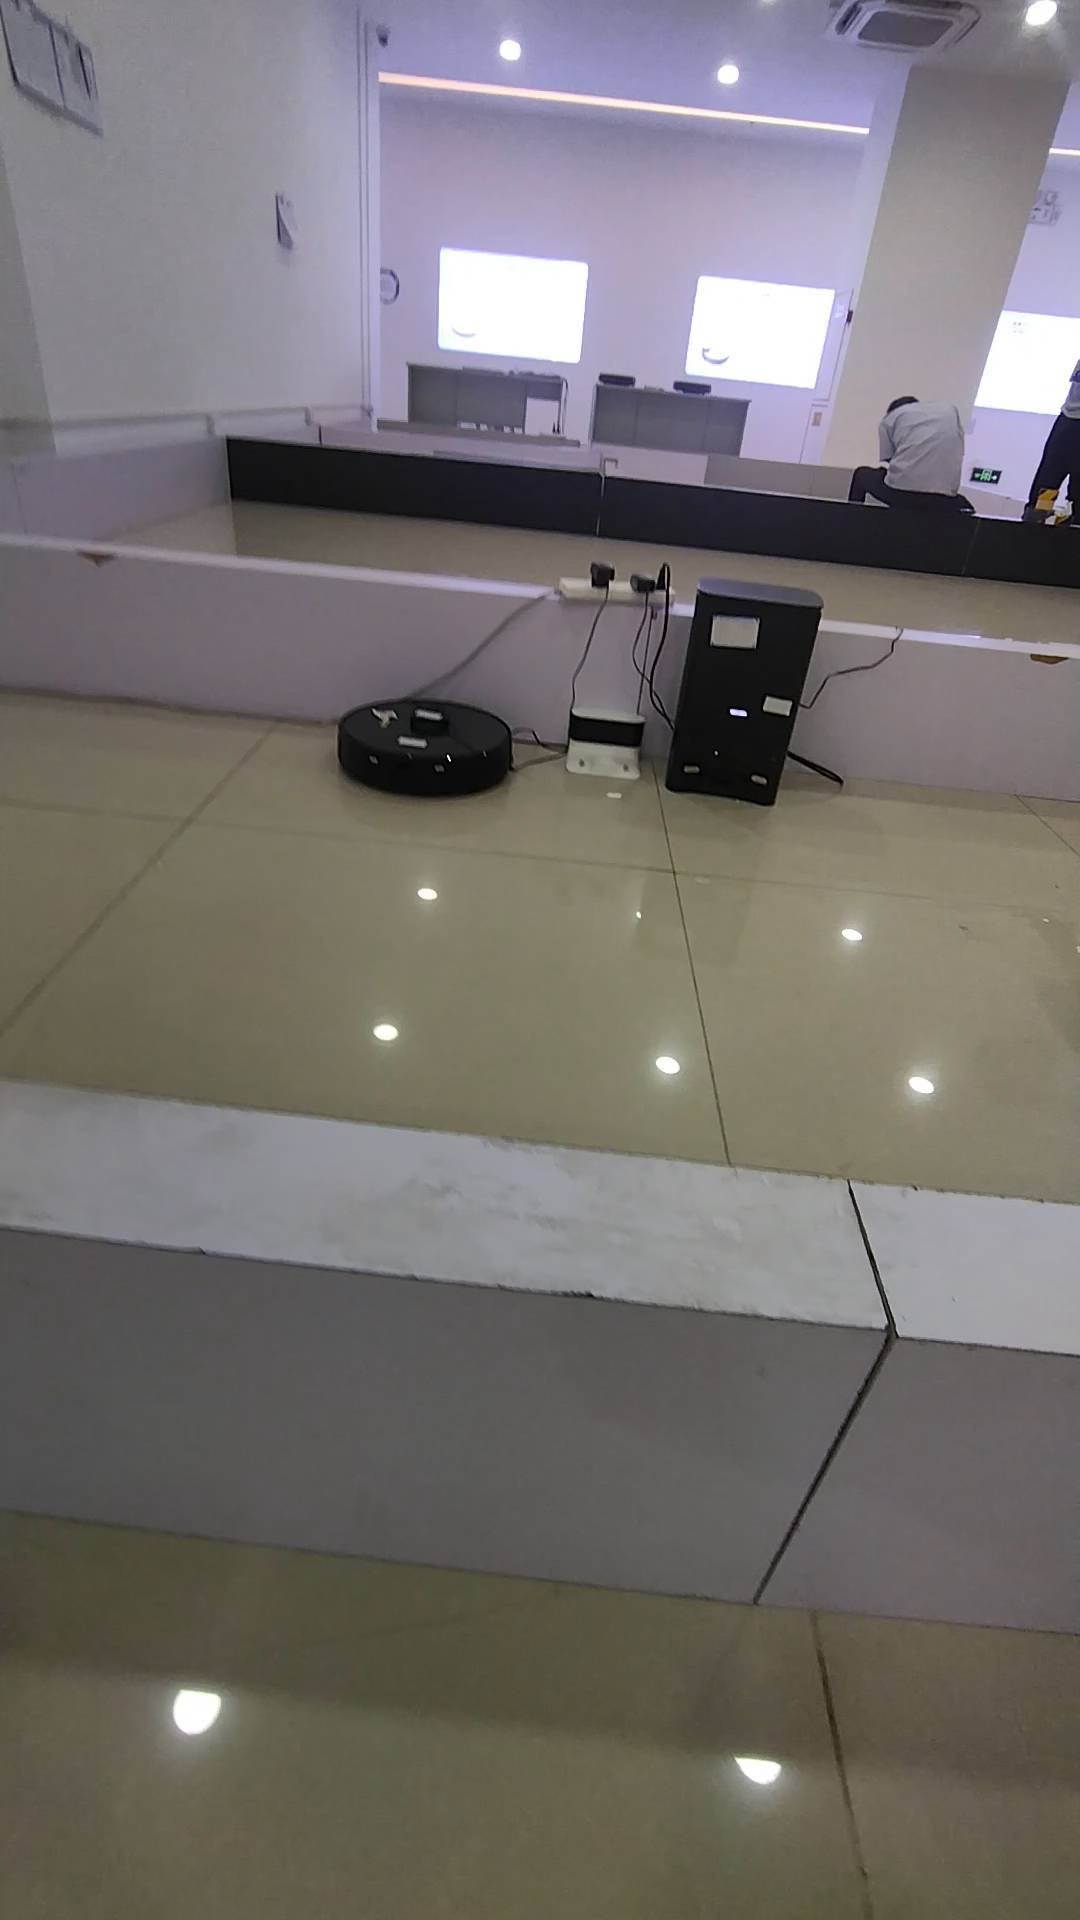dust collecting barrel: (663, 578, 825, 806)
recharge seat: (560, 704, 646, 774)
